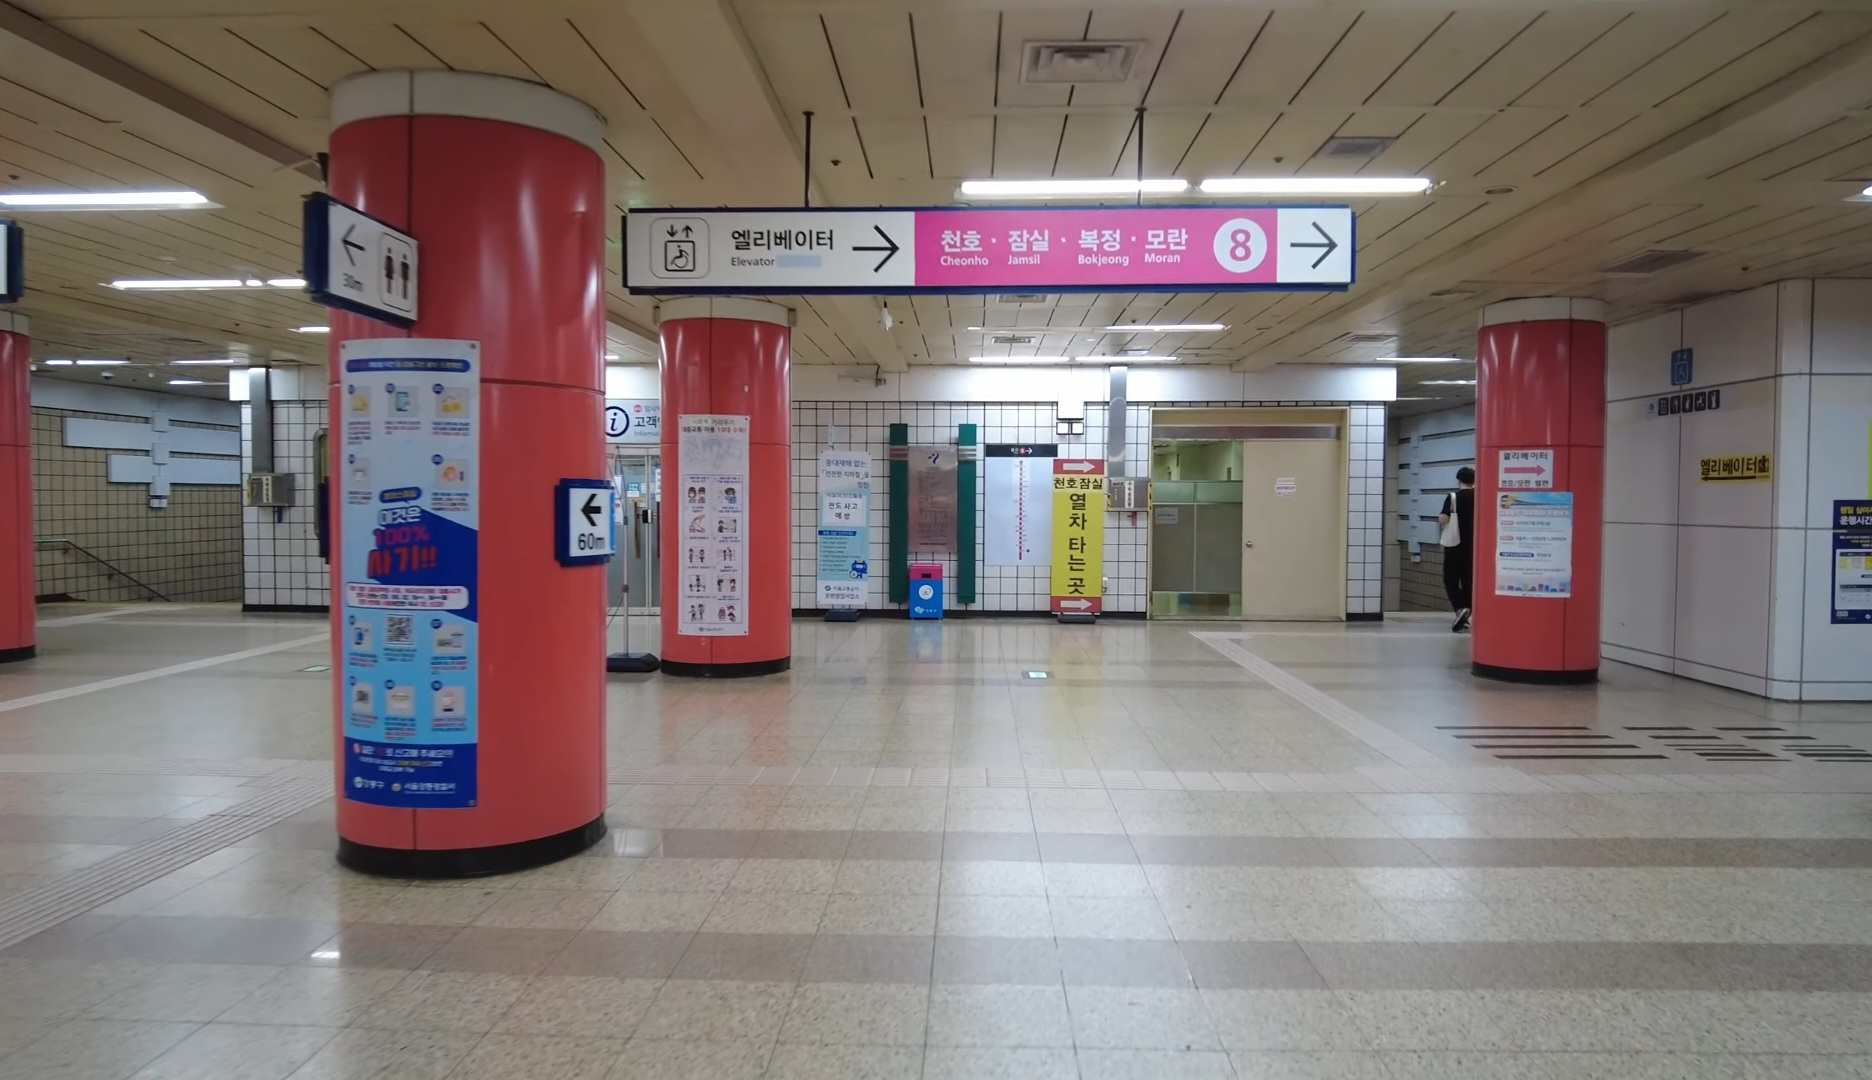signBoard: (599, 193, 1374, 294)
